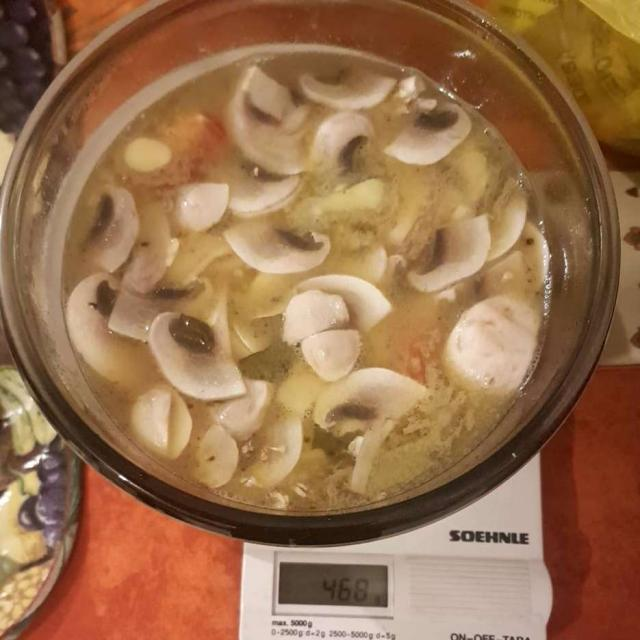bouillon: (72, 60, 540, 502)
mushroom: (62, 60, 563, 494)
